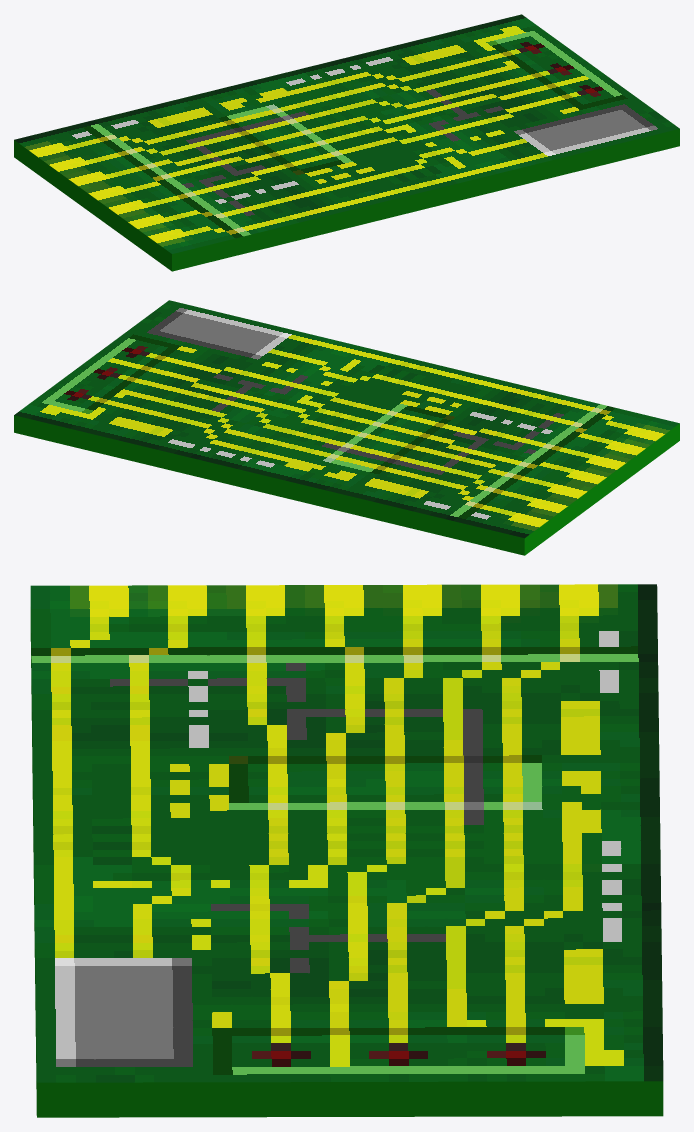
The model's file is primary_100.glb.
The picture shows the model from 3 angles, top to bottom: view 1: azimuth 30°, elevation 25°; view 2: azimuth 150°, elevation 25°; view 3: azimuth 270°, elevation 25°; orthographic projection. The views are drawn at different scales.
Visible parts, largest first — view 1: Object; view 2: Object; view 3: Object.
Part boxes in pixels (x1,y1,x2,y2): Object: [14, 14, 679, 271]; Object: [14, 300, 679, 555]; Object: [30, 584, 663, 1117].
Bounding box in the file's own units: 0.2768 × 0.00905 × 0.1485.
6 materials, 6 textured.
